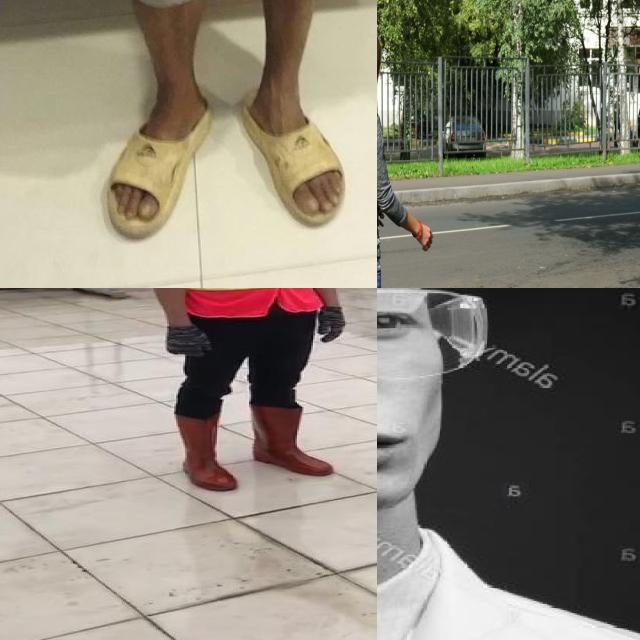Sandals: (81, 74, 377, 244)
boots: (162, 409, 240, 494), (258, 401, 332, 475)
face_nomask: (377, 296, 430, 488)
glasses: (377, 288, 490, 402)
person: (130, 288, 343, 496)
vest: (160, 288, 322, 317)
